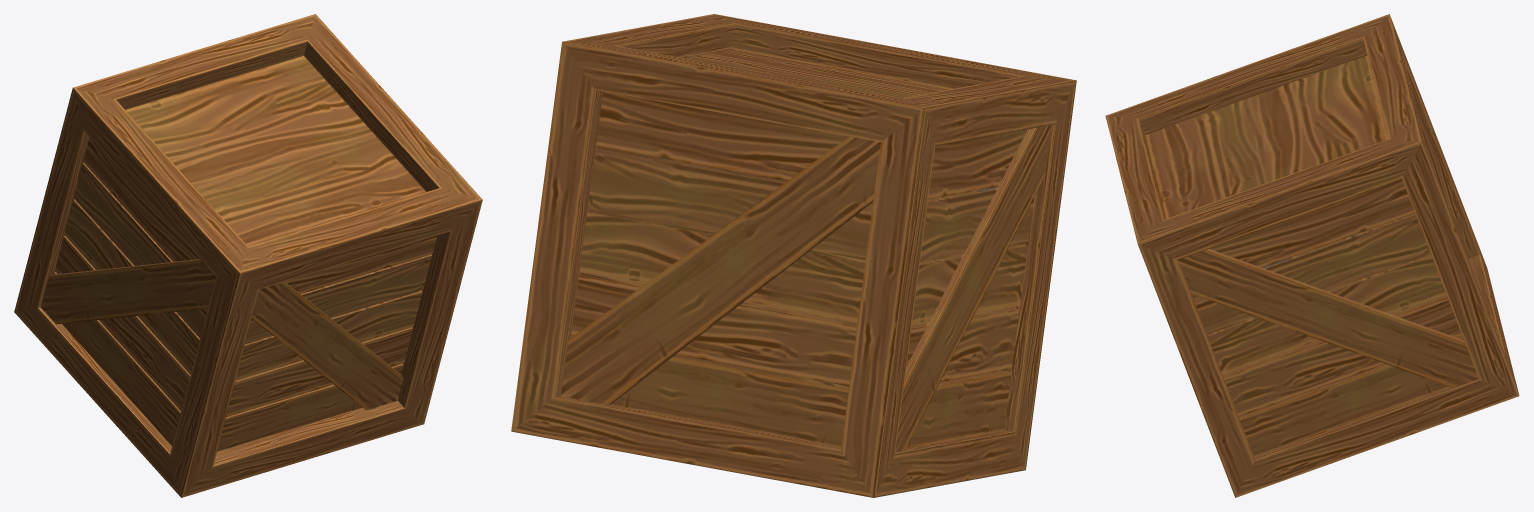
The picture shows the model from 3 angles, left to right: view 1: azimuth 30°, elevation 25°; view 2: azimuth 150°, elevation 25°; view 3: azimuth 270°, elevation 25°; orthographic projection. The views are drawn at different scales.
Parts seen in each view (by area): view 1: Cube.1934; view 2: Cube.1934; view 3: Cube.1934.
Boxes of the visible parts, x1,y1,x2,y2 form: Cube.1934: (14, 14, 482, 497); Cube.1934: (511, 14, 1076, 497); Cube.1934: (1105, 14, 1519, 497).
Size of the model in its own units: 150 by 169 by 182.
1 material, 1 textured.
